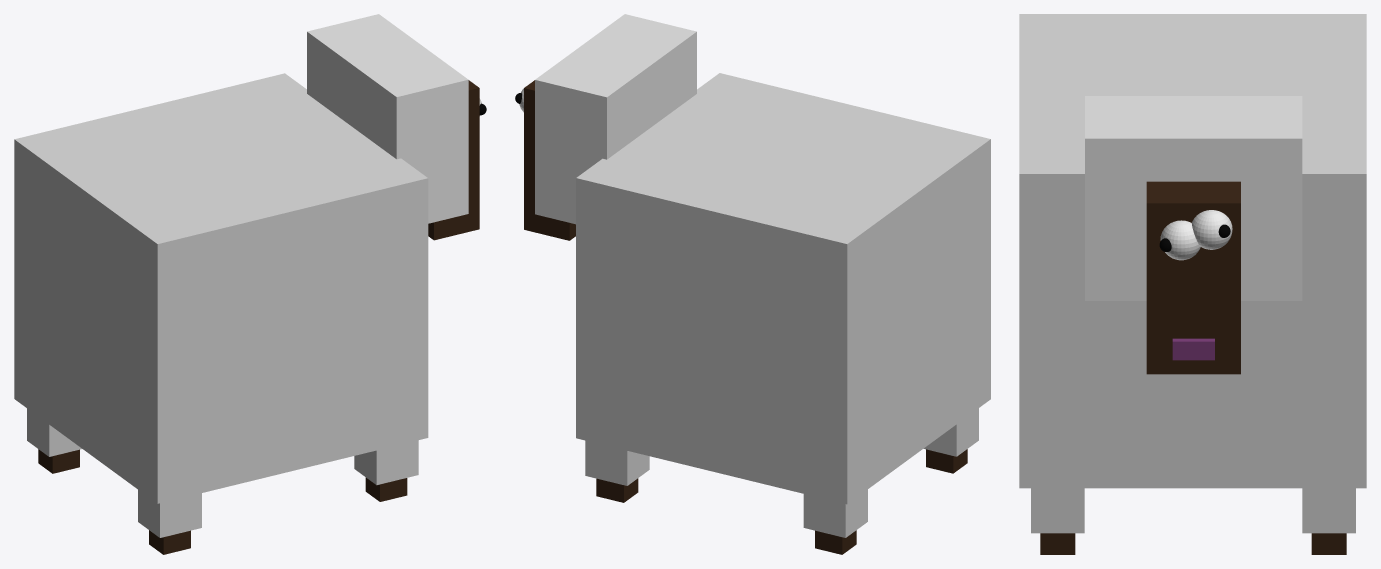
Rendered from Dumb_Sheep.fbx.
3 renders of one model, left to right at view 1: azimuth 30°, elevation 25°; view 2: azimuth 150°, elevation 25°; view 3: azimuth 270°, elevation 25°, orthographic. The views are drawn at different scales.
Visible parts, largest first — view 1: Cube, Cube.001, Cube.002, Cube.006, Cube.005, Cube.007, Cube.009, Cube.010, Cube.011; view 2: Cube, Cube.001, Cube.002, Cube.007, Cube.004, Cube.006, Cube.008, Cube.010, Cube.011; view 3: Cube, Cube.001, Cube.002, Cube.004, Cube.005, Sphere, Sphere.001, Cube.012, Cube.008, Cube.009.
Boxes of the visible parts, x1=… form: Cube: x1=14, y1=73, x2=428, y2=503; Cube.001: x1=307, y1=14, x2=468, y2=223; Cube.002: x1=428, y1=80, x2=479, y2=240; Cube.006: x1=138, y1=490, x2=201, y2=537; Cube.005: x1=354, y1=440, x2=418, y2=485; Cube.007: x1=27, y1=408, x2=81, y2=456; Cube.009: x1=365, y1=477, x2=407, y2=501; Cube.010: x1=149, y1=530, x2=190, y2=554; Cube.011: x1=38, y1=449, x2=79, y2=473; Cube: x1=576, y1=73, x2=990, y2=504; Cube.001: x1=535, y1=14, x2=696, y2=224; Cube.002: x1=524, y1=80, x2=575, y2=240; Cube.007: x1=803, y1=489, x2=867, y2=537; Cube.004: x1=585, y1=440, x2=649, y2=485; Cube.006: x1=923, y1=408, x2=978, y2=456; Cube.008: x1=596, y1=478, x2=638, y2=502; Cube.010: x1=926, y1=449, x2=967, y2=473; Cube.011: x1=815, y1=530, x2=856, y2=554; Cube: x1=1019, y1=14, x2=1366, y2=488; Cube.001: x1=1085, y1=96, x2=1302, y2=300; Cube.002: x1=1146, y1=181, x2=1240, y2=374; Cube.004: x1=1302, y1=488, x2=1355, y2=533; Cube.005: x1=1031, y1=488, x2=1084, y2=533; Sphere: x1=1191, y1=210, x2=1232, y2=249; Sphere.001: x1=1160, y1=220, x2=1200, y2=260; Cube.012: x1=1172, y1=338, x2=1214, y2=360; Cube.008: x1=1311, y1=533, x2=1346, y2=554; Cube.009: x1=1040, y1=533, x2=1075, y2=554.
Bounding box in the file's own units: 361 × 339 × 230.
